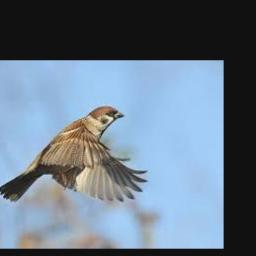Sparrow: (0, 106, 148, 203)
